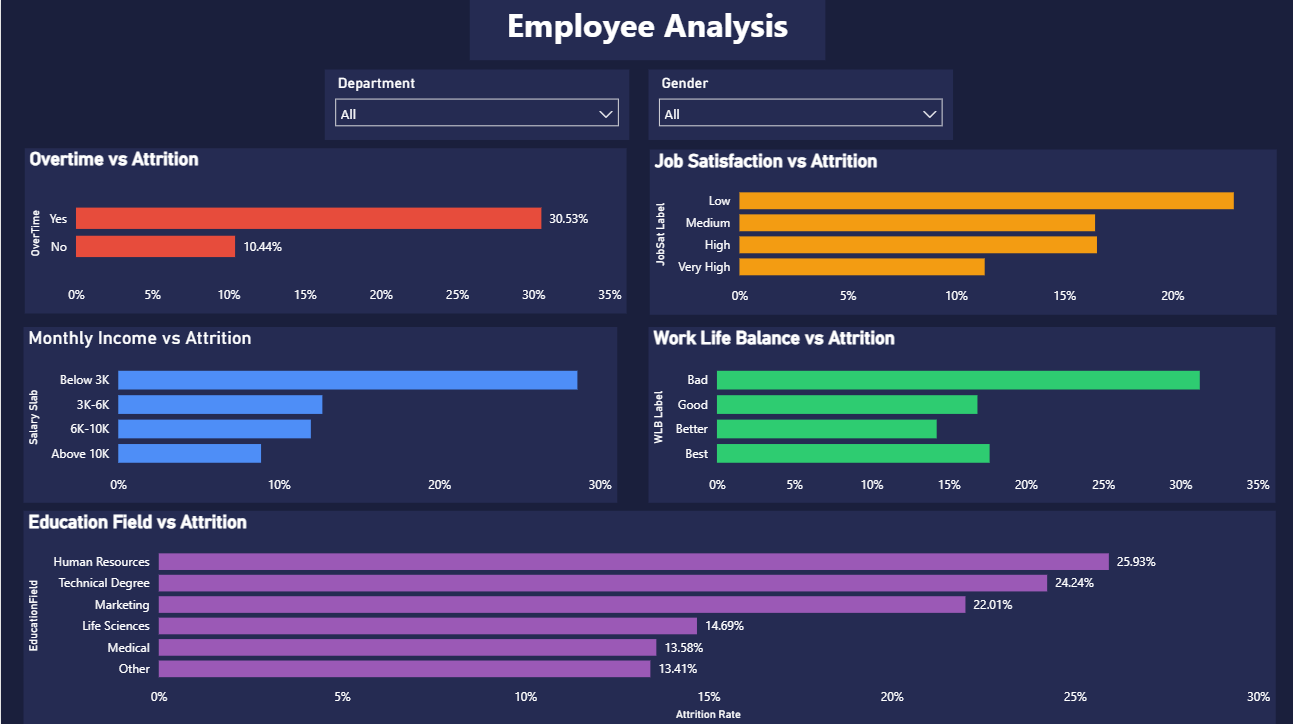

The page's visual inventory and layout, read from the dashboard file:
{"tool":"powerbi","page":{"name":"Employee Analysis","canvas":[1280,720],"ordinal":1},"visuals":[{"type":"textbox","box":[463.3,0,351.1,62.7],"z":0},{"type":"clusteredBarChart","title":"Overtime vs Attrition","fields":{"Category":["hr_analytics hr_data.OverTime"],"Y":["hr_analytics hr_data.Attrition Rate"]},"box":[22.9,149.6,594.8,162.9],"z":1000},{"type":"clusteredBarChart","title":"Job Satisfaction vs Attrition","fields":{"Y":["hr_analytics hr_data.Attrition Rate"],"Category":["hr_analytics hr_data.JobSat Label"]},"box":[640.6,150.8,618.9,162.9],"z":2000},{"type":"clusteredBarChart","title":"Monthly Income vs Attrition","fields":{"Category":["hr_analytics hr_data.Salary Slab"],"Y":["hr_analytics hr_data.Attrition Rate"]},"box":[21.7,325.7,586.3,173.7],"z":3000},{"type":"clusteredBarChart","title":"Work Life Balance vs Attrition","fields":{"Y":["hr_analytics hr_data.Attrition Rate"],"Category":["hr_analytics hr_data.WLB Label"]},"box":[639.4,325.7,618.9,173.7],"z":4000},{"type":"clusteredBarChart","title":"Education Field vs Attrition","fields":{"Category":["hr_analytics hr_data.EducationField"],"Y":["hr_analytics hr_data.Attrition Rate"]},"box":[21.7,507.9,1236.6,212.3],"z":5000},{"type":"slicer","fields":{"Values":["hr_analytics hr_data.Department"]},"box":[319.7,71.2,300.4,70],"z":6000},{"type":"slicer","fields":{"Values":["hr_analytics hr_data.Gender"]},"box":[639.4,71.2,300.4,70],"z":7000}]}

Visuals, with their boxes in screenshot pixels (x1, y1, x2, y2), scaled from the page's 1280x720 canvas onto the 1293x724 screenshot:
textbox: 468 0 823 63
"Overtime vs Attrition" clusteredBarChart: 23 150 624 314
"Job Satisfaction vs Attrition" clusteredBarChart: 647 152 1272 315
"Monthly Income vs Attrition" clusteredBarChart: 22 328 614 502
"Work Life Balance vs Attrition" clusteredBarChart: 646 328 1271 502
"Education Field vs Attrition" clusteredBarChart: 22 511 1271 723
slicer - hr_analytics hr_data.Department: 323 72 626 142
slicer - hr_analytics hr_data.Gender: 646 72 949 142
